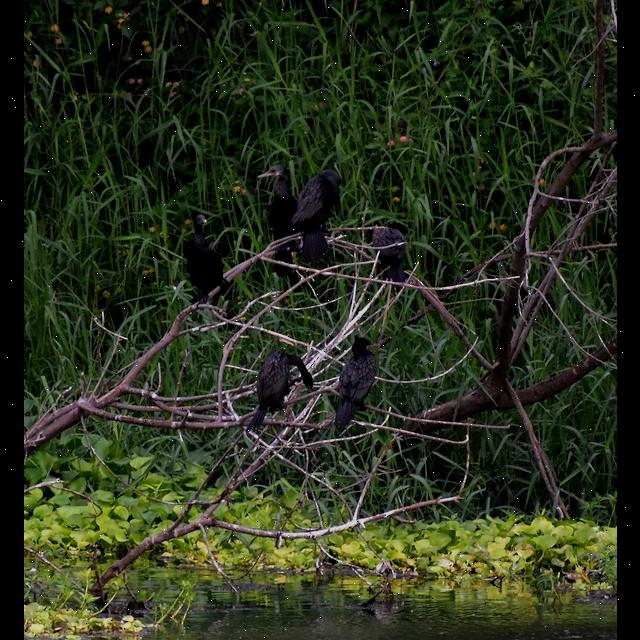cormorant: (244, 348, 316, 437), (331, 335, 384, 431), (182, 210, 230, 306), (255, 164, 295, 278)
